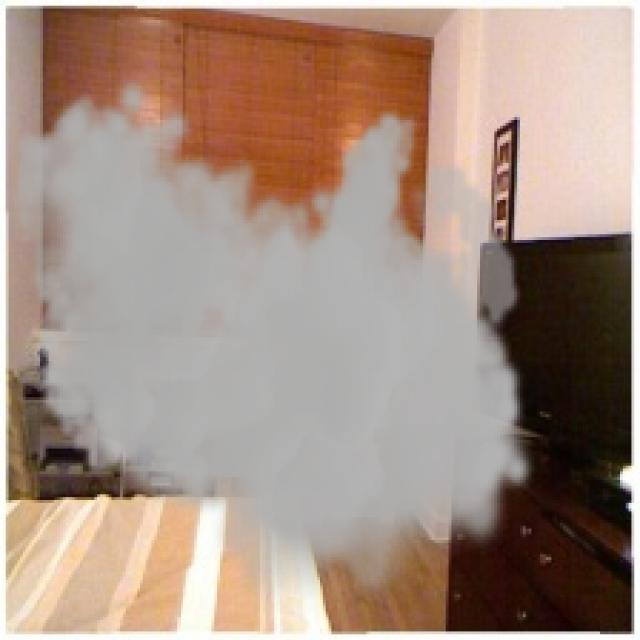smoke: (9, 75, 537, 614)
